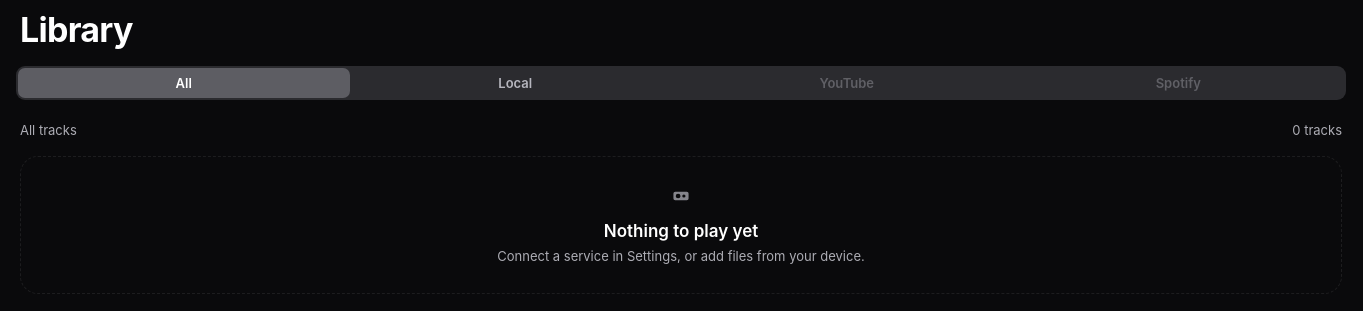
Test: Library › shows the empty state when the Local filter has no tracks
Click the button "Local": (515, 83) [350, 68, 681, 98]
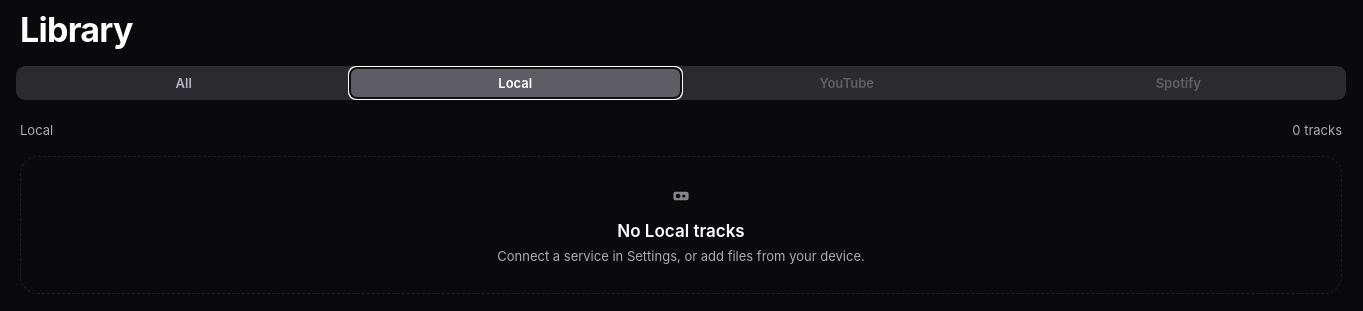
expect the text "No Local tracks" is shown: met, box [617, 221, 745, 241]
